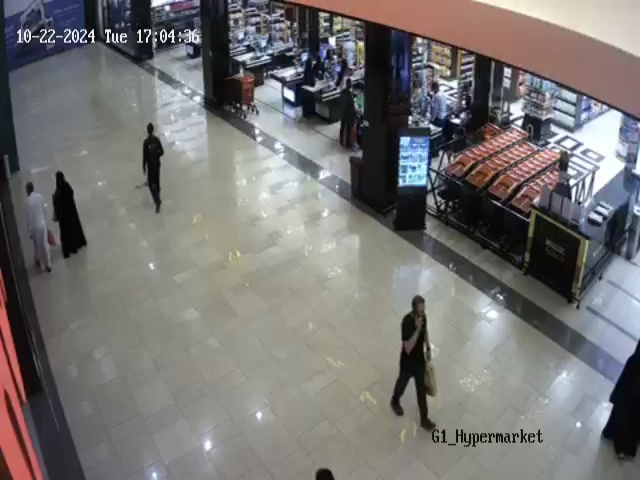female: (600, 338, 640, 463), (51, 171, 88, 259)
male: (389, 295, 438, 431), (25, 181, 53, 274), (142, 123, 164, 214), (315, 468, 335, 480)
